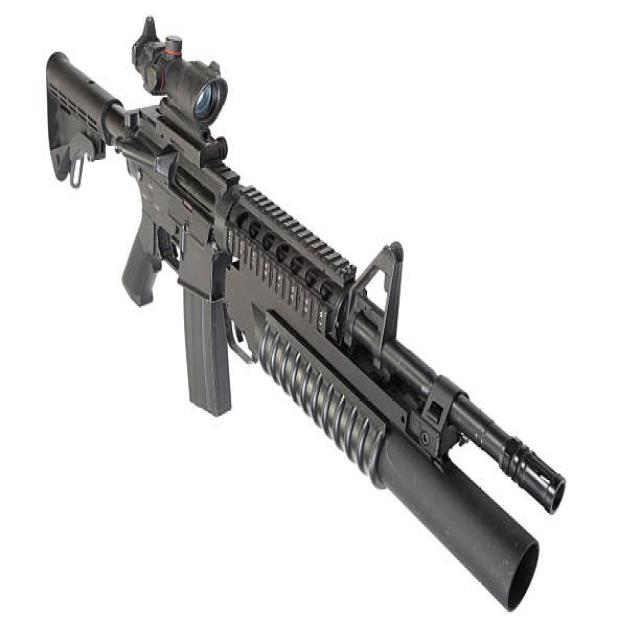rifle: (31, 5, 579, 623)
